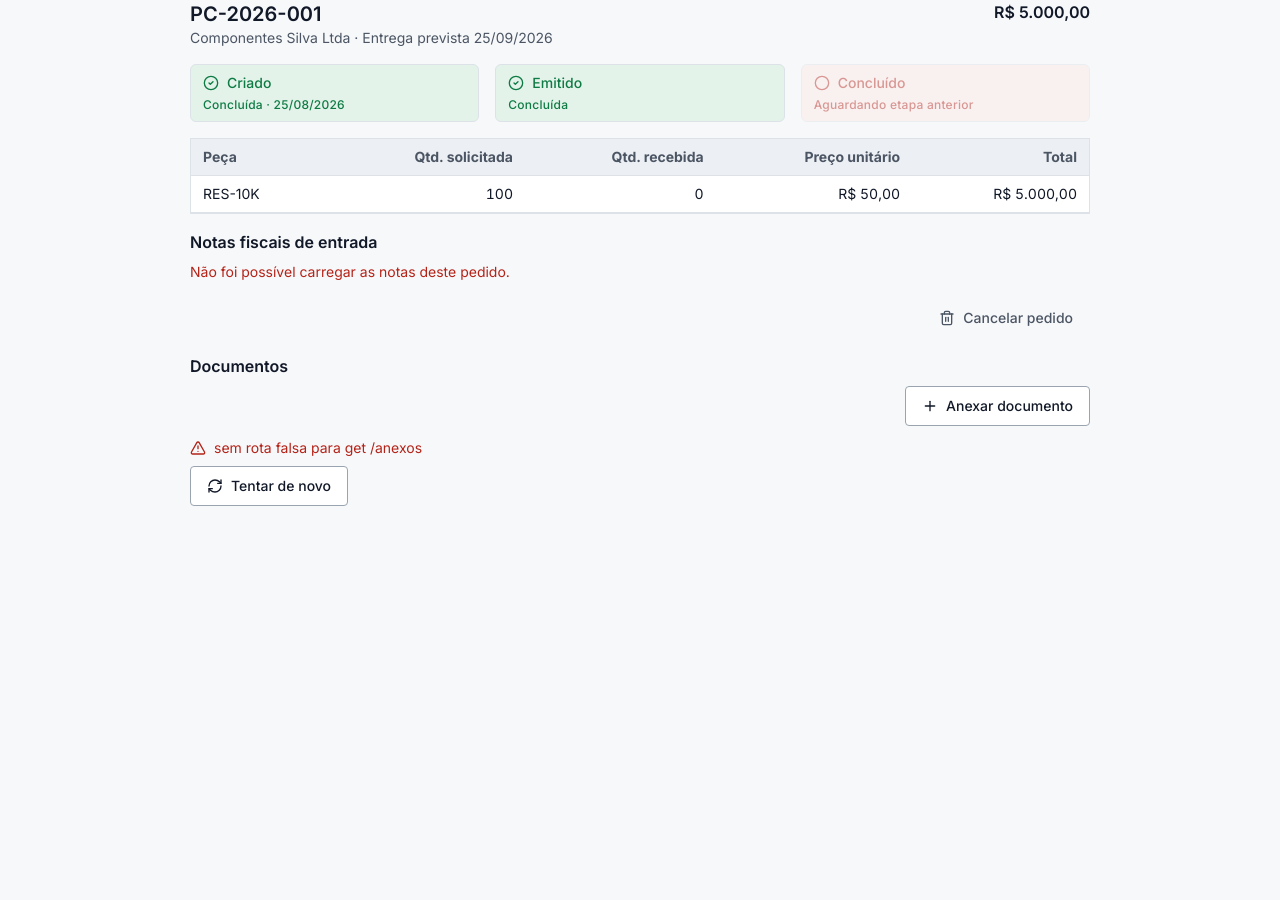
Test: DetalhePedidoCompra › cancelar pede confirmacao antes de agir
Check: the heading "PC-2026-001" is shown, box [190,2,322,26]
Click the button "Cancelar pedido" at (1006, 318), box [922,298,1090,338]
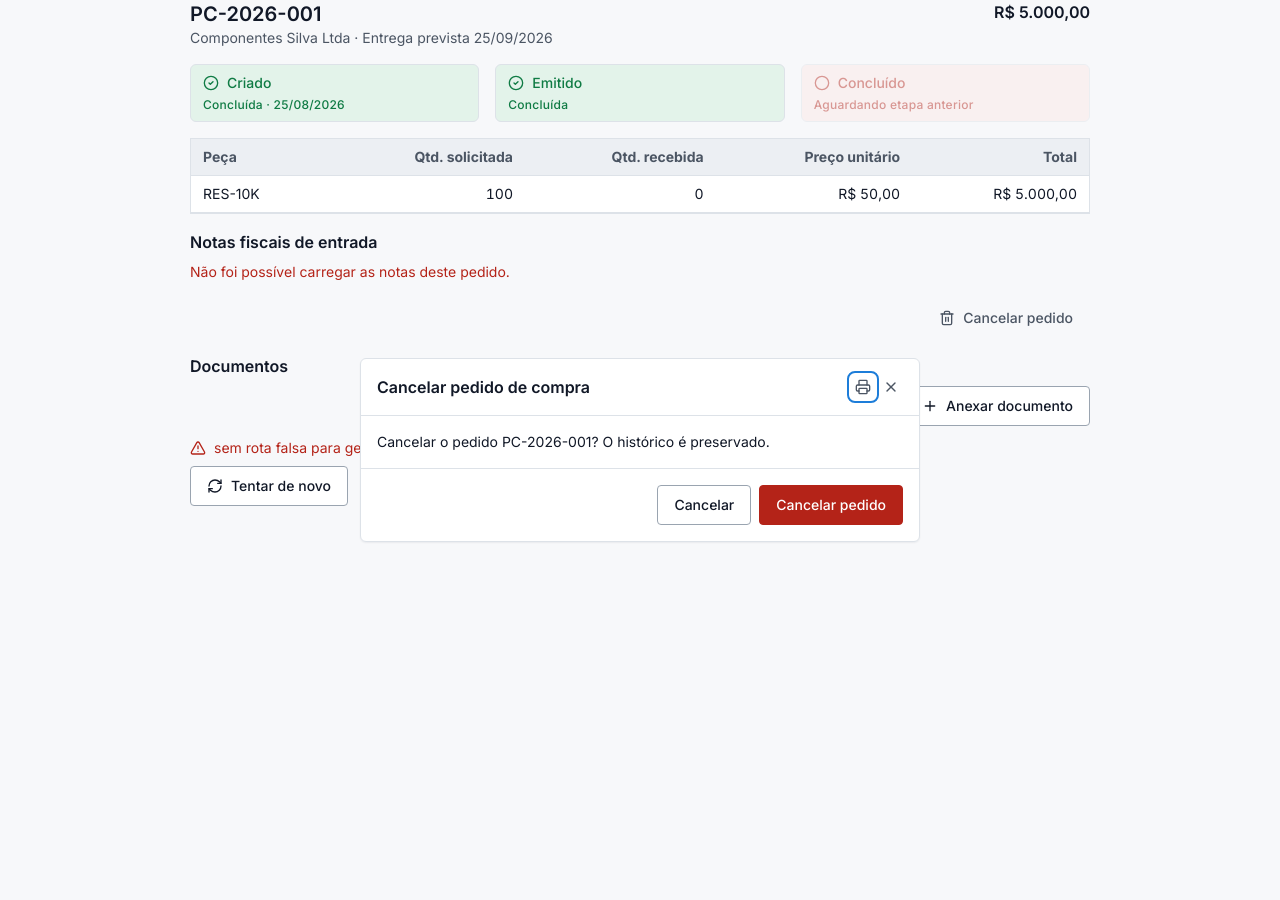
Check: the dialog "Cancelar pedido de compra" is shown, box [360,358,920,542]
